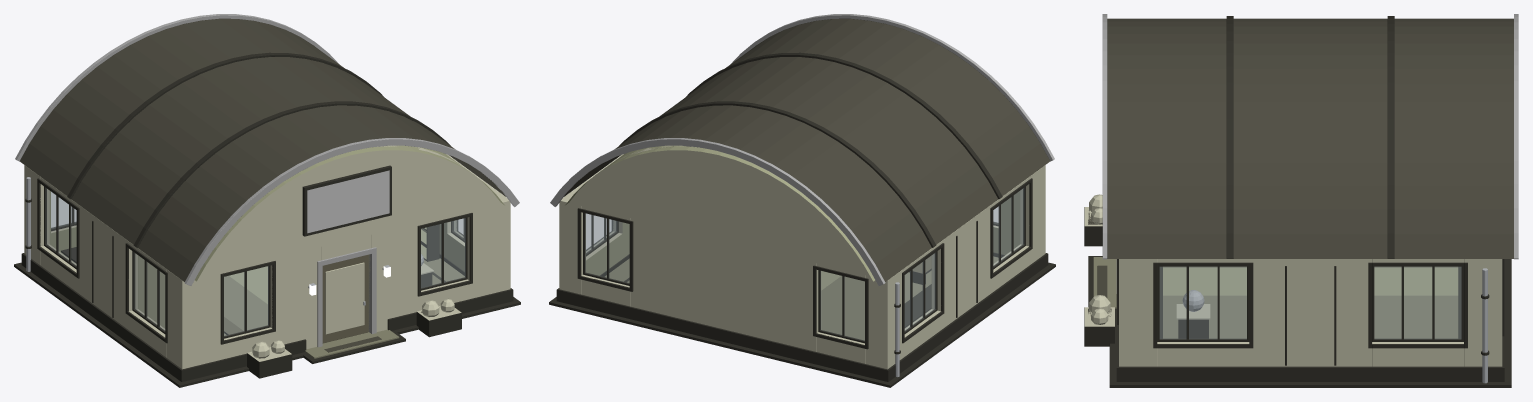
Rendered from rival3_v1.glb.
3 views of the same model, side by side, from view 1: azimuth 30°, elevation 25°; view 2: azimuth 150°, elevation 25°; view 3: azimuth 270°, elevation 25° (orthographic). The views are drawn at different scales.
Visible parts, largest first — view 1: SM_rival3_v1_Shell, SM_rival3_v1_Door, SM_rival3_v1_Sign; view 2: SM_rival3_v1_Shell; view 3: SM_rival3_v1_Shell.
Boxes of the visible parts, x1,y1,x2,y2 form: SM_rival3_v1_Shell: (14,14,520,387); SM_rival3_v1_Door: (322,254,368,343); SM_rival3_v1_Sign: (307,170,389,233); SM_rival3_v1_Shell: (549,14,1055,387); SM_rival3_v1_Shell: (1084,14,1518,387).
Bounding box in the file's own units: 12.48 × 7.12 × 11.32.
